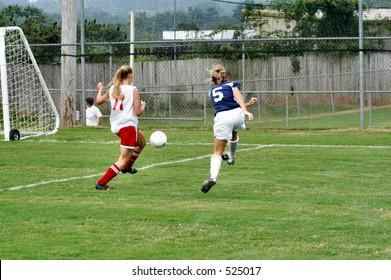ballon_football: (149, 130, 167, 149)
